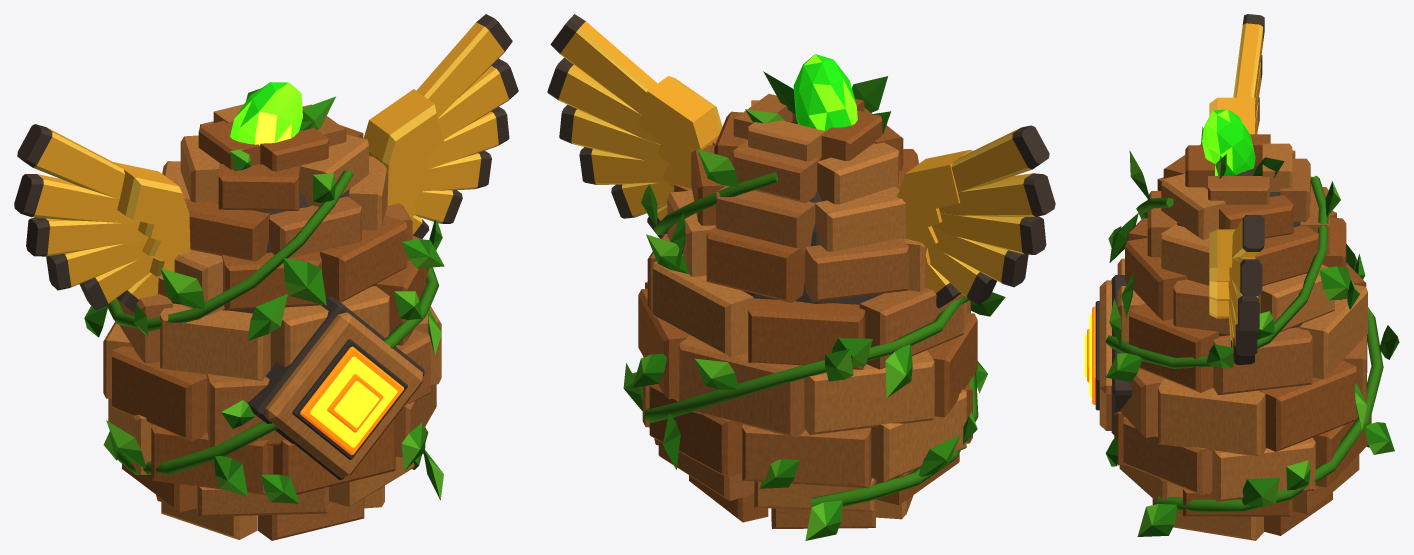
Rendered from Winged Egg.fbx.
3 renders of one model, left to right at view 1: azimuth 30°, elevation 25°; view 2: azimuth 150°, elevation 25°; view 3: azimuth 270°, elevation 25°, orthographic. The views are drawn at different scales.
Visible parts, largest first — view 1: Wood frame, Stave 05.07, Stave 04.06, R | Wing cover, L | Wing cover, Stave 06.01, L | Feather 06, R | Feather 06, Stave 03.07, Stave 07.06, L | Feather 05, Stave 05.01 (+51 smaller); view 2: Stave 04.05, Stave 05.05, Stave 03.05, Stave 04.04, Stave 05.04, Stave 06.04, R | Wing cover, Stave 06.05, Stave 07.04, Stave 05.06, Stave 07.05, R | Feather 06 (+45 smaller); view 3: Stave 04.02, Stave 04.03, Stave 05.03, Stave 05.02, Vine 1, Stave 03.02, Stave 03.03, Stave 05.04, Vine 2, Stave 06.01, Crown crystal, Stave 07.03 (+44 smaller).
Part boxes in pixels (x1,y1,x2,y2): Wood frame: [265, 312, 422, 477]; Stave 05.07: [160, 303, 270, 381]; Stave 04.06: [112, 346, 207, 441]; R | Wing cover: [363, 89, 444, 218]; L | Wing cover: [114, 162, 190, 279]; Stave 06.01: [320, 215, 407, 302]; L | Feather 06: [17, 124, 124, 199]; R | Feather 06: [416, 14, 512, 117]; Stave 03.07: [151, 424, 273, 494]; Stave 07.06: [185, 198, 269, 261]; L | Feather 05: [14, 174, 139, 224]; Stave 05.01: [270, 286, 389, 368]; Stave 04.05: [804, 350, 934, 434]; Stave 05.05: [748, 298, 865, 369]; Stave 03.05: [742, 424, 871, 488]; Stave 04.04: [679, 336, 805, 437]; Stave 05.04: [653, 261, 753, 357]; Stave 06.04: [706, 226, 804, 302]; R | Wing cover: [638, 76, 722, 192]; Stave 06.05: [805, 238, 908, 301]; Stave 07.04: [716, 185, 815, 253]; Stave 05.06: [859, 288, 963, 369]; Stave 07.05: [814, 186, 905, 251]; R | Feather 06: [550, 14, 657, 114]; Stave 04.02: [1158, 378, 1266, 456]; Stave 04.03: [1259, 360, 1356, 451]; Stave 05.03: [1213, 327, 1312, 395]; Stave 05.02: [1129, 303, 1218, 392]; Vine 1: [1136, 198, 1383, 512]; Stave 03.02: [1123, 417, 1212, 495]; Stave 03.03: [1210, 437, 1315, 501]; Stave 05.04: [1299, 284, 1367, 379]; Vine 2: [1105, 175, 1328, 368]; Stave 06.01: [1125, 237, 1186, 320]; Crown crystal: [1202, 109, 1255, 175]; Stave 07.03: [1255, 225, 1318, 285].
Bounding box in the file's own units: 387 × 316 × 234.
15 materials, 3 textured.
